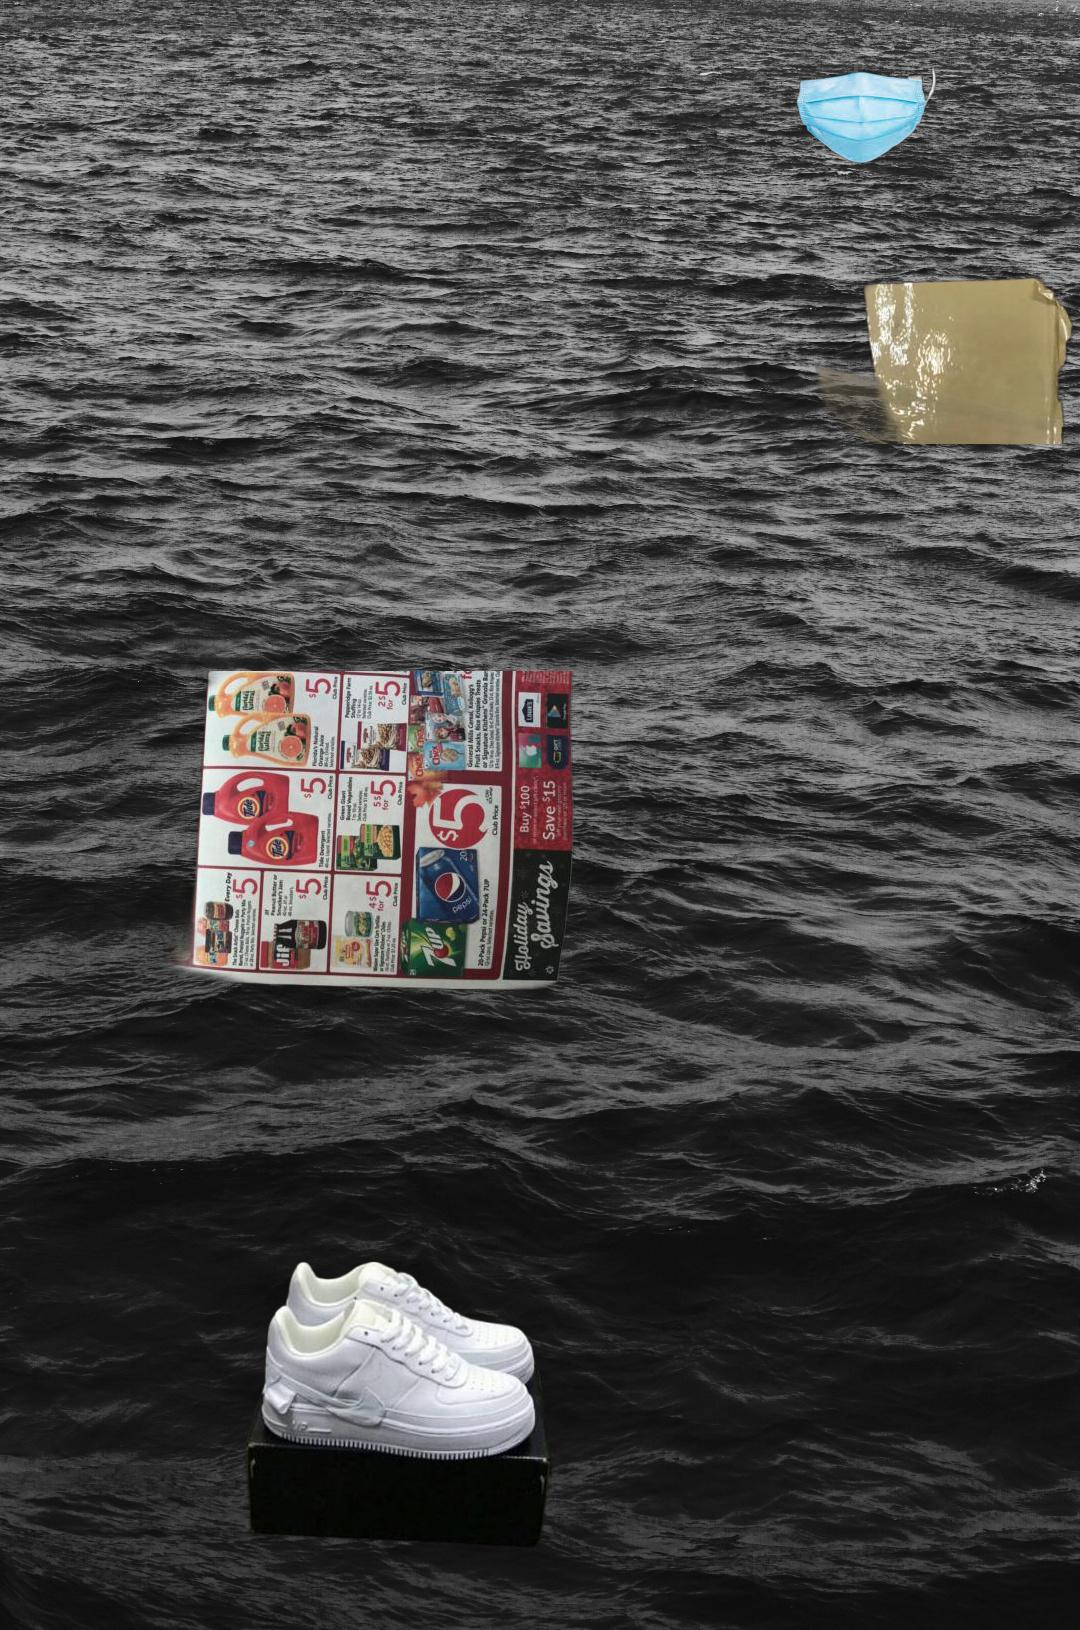paper: (149, 671, 579, 1043)
shoes: (240, 1258, 556, 1550)
trash: (788, 58, 939, 166)
trashbox-cardboard: (755, 275, 1078, 445)
